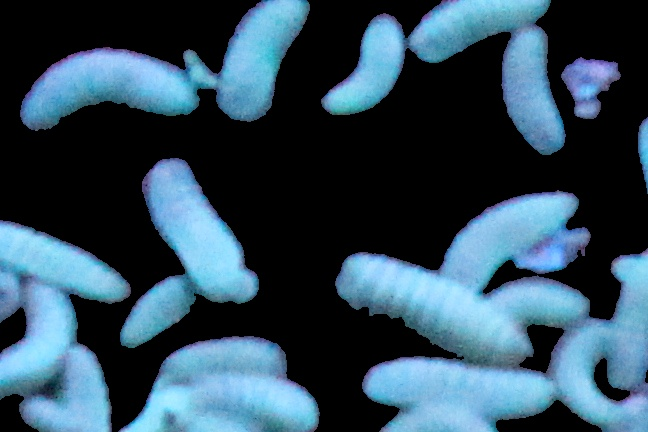larvae: (335, 252, 540, 365), (143, 160, 264, 307), (21, 46, 199, 131), (359, 351, 556, 415), (440, 193, 581, 282), (1, 214, 128, 299), (221, 1, 308, 122), (552, 324, 648, 432), (1, 285, 77, 407), (408, 1, 549, 62), (501, 24, 567, 154), (190, 374, 325, 432), (325, 19, 406, 114), (118, 273, 199, 353), (160, 334, 289, 382), (493, 275, 594, 330), (63, 343, 111, 431), (366, 405, 501, 432), (21, 398, 74, 432)
